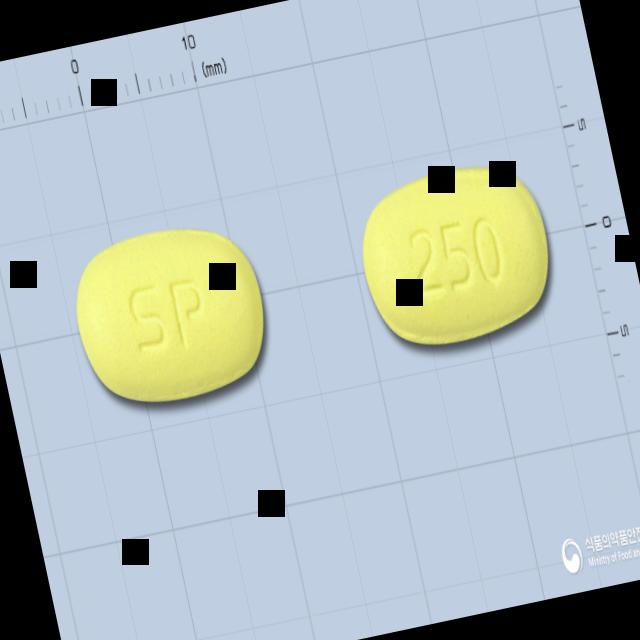Cephamethyl Cap: (348, 148, 566, 358), (62, 210, 279, 418)
